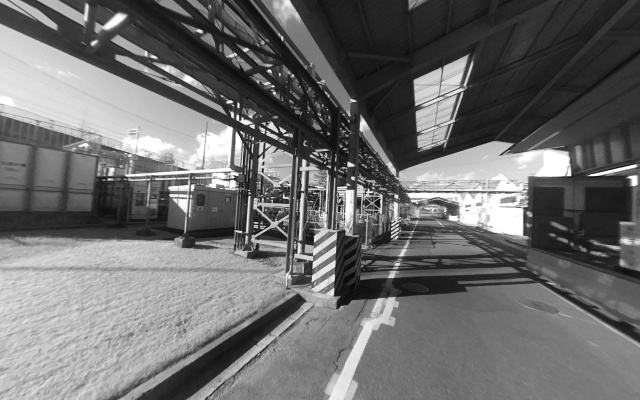bollard: (311, 228, 362, 303), (389, 219, 402, 241)
